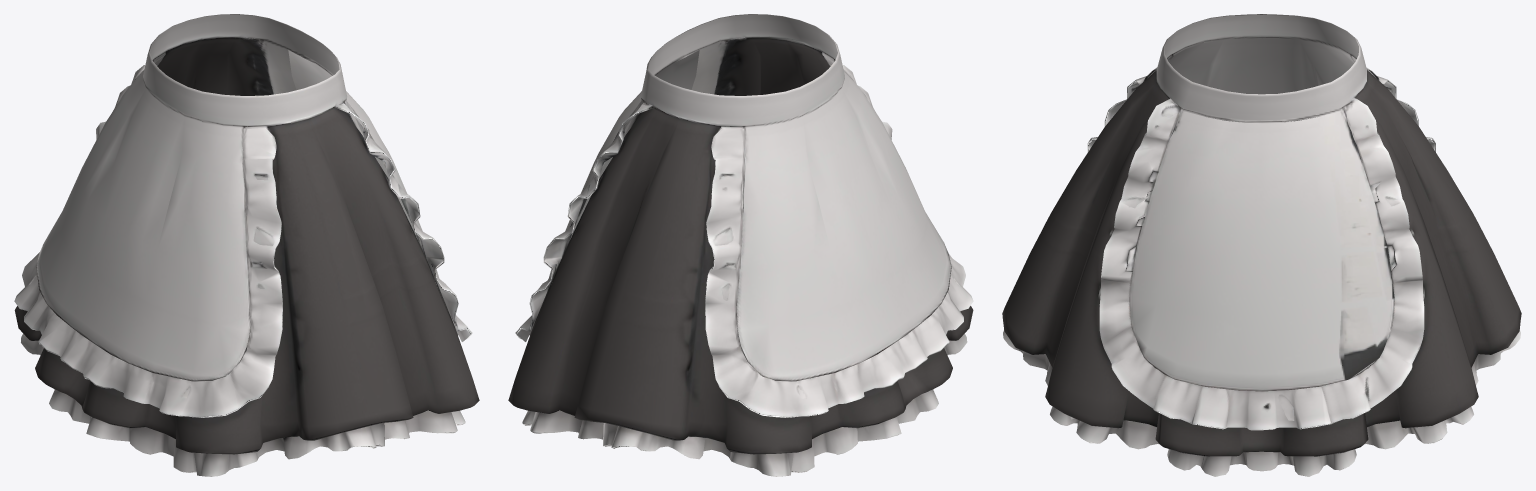
Rendered from MaidSkirt_P2_Detailed.fbx.
The picture shows the model from 3 angles, left to right: view 1: azimuth 30°, elevation 25°; view 2: azimuth 150°, elevation 25°; view 3: azimuth 270°, elevation 25°; orthographic projection.
Parts seen in each view (by area): view 1: tripo_node_8c56926b; view 2: tripo_node_8c56926b; view 3: tripo_node_8c56926b.
Part boxes in pixels (left/top/right/bottom): tripo_node_8c56926b: left=14, top=14, right=479, bottom=476; tripo_node_8c56926b: left=508, top=14, right=973, bottom=476; tripo_node_8c56926b: left=1002, top=14, right=1521, bottom=476.
Size of the model in its own units: 80.13 by 74.07 by 99.95.
Materials: 1 (1 with a texture image).
